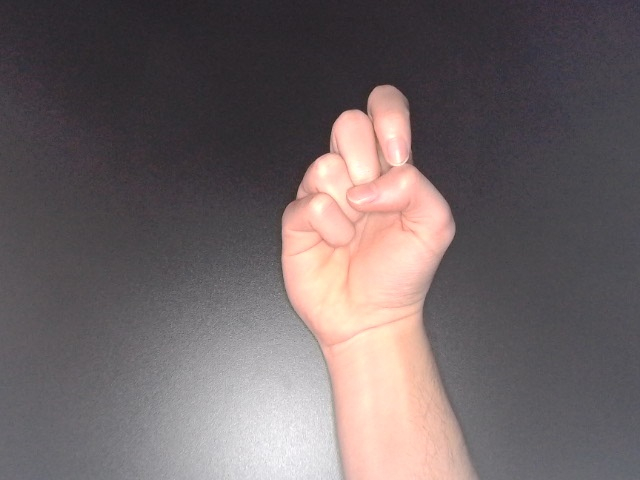s: (274, 78, 461, 365)
